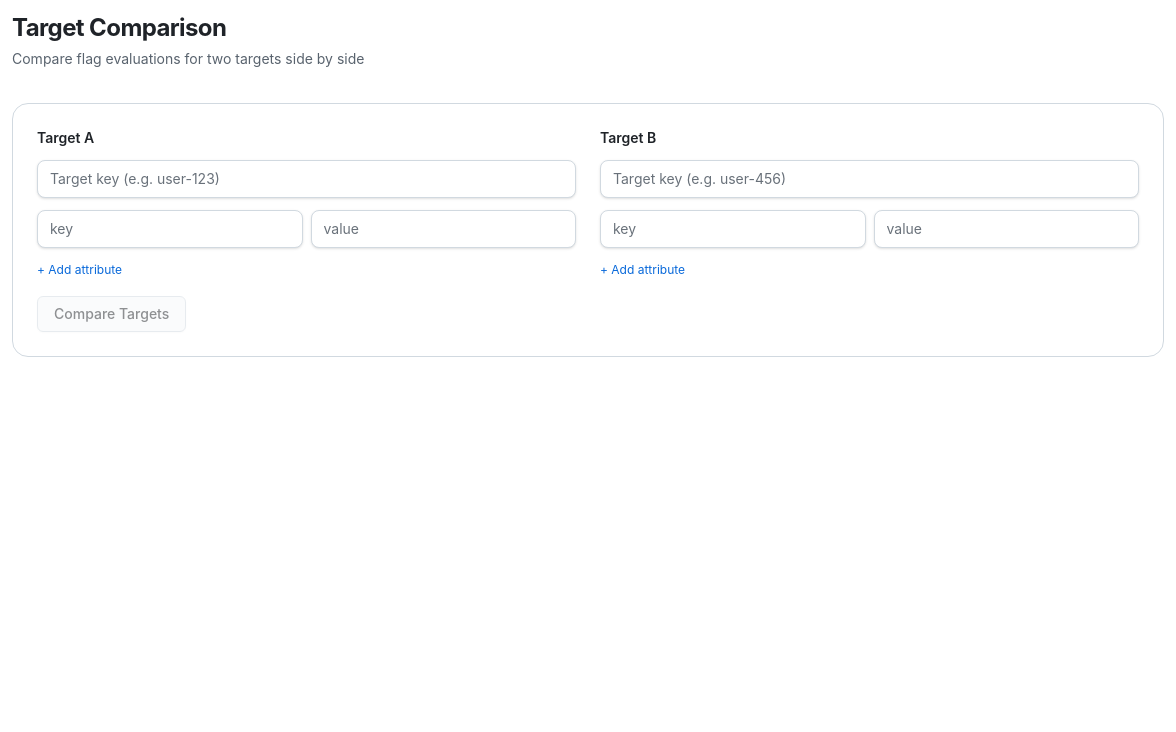
Scenario: TargetComparisonPage › diff display shows differences
Type "user-a" into the field with placeholder "Target key (e.g. user-123)" at (306, 179), box [37,160,576,198]
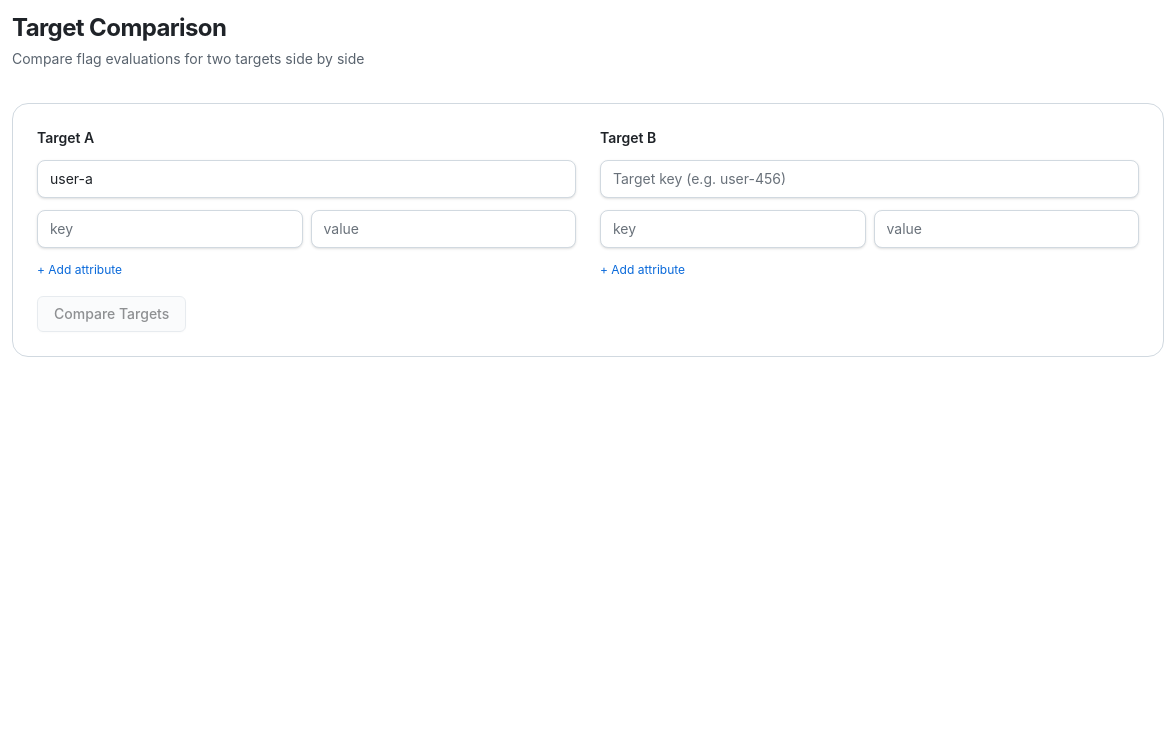
Type "user-b" into the field with placeholder "Target key (e.g. user-456)" at (870, 179), box [600,160,1139,198]
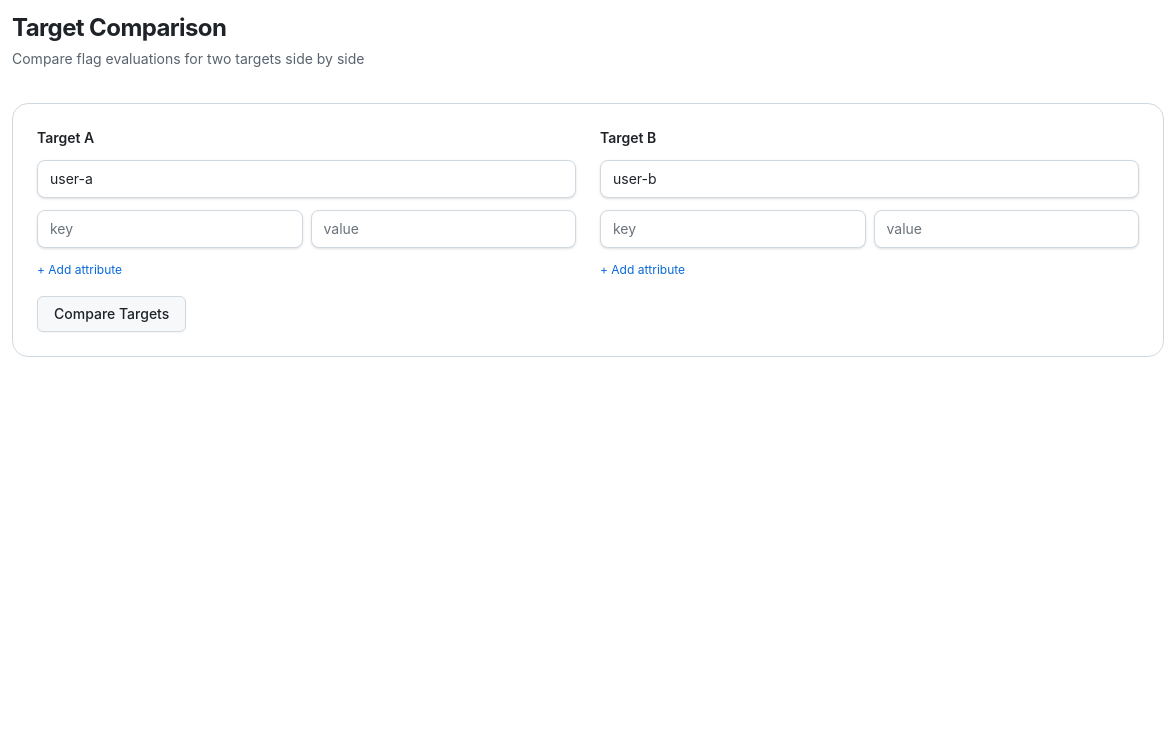
Submit the text "Compare Targets", box [12,103,1164,357]
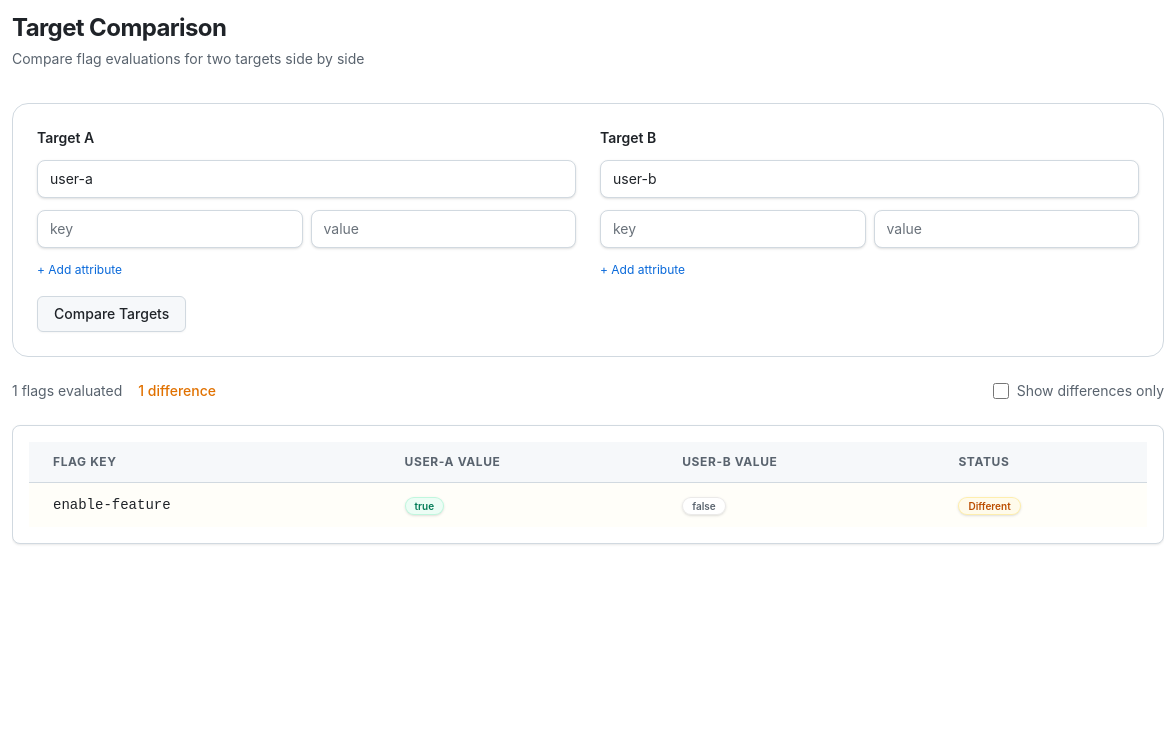
Expected: the text "enable-feature" is shown, [29,482,389,527]
Expected: the text "Different" is shown, [958,497,1021,515]
